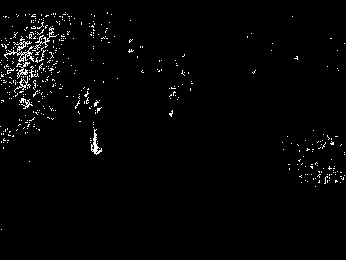person: (73, 85, 102, 155)
